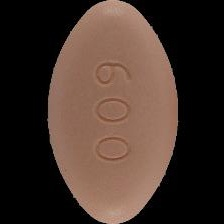50436-1262: (0, 0, 224, 224)
